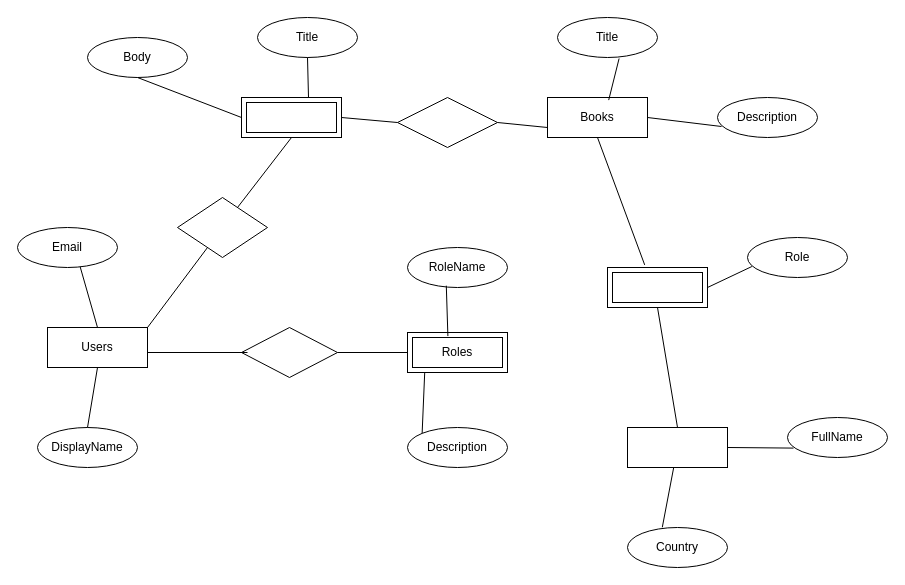
This 905x585 diagram has some shape labels left out. The centre of each missing label's shape, as x and y in pixels:
"Authors" goes at (x=677, y=447).
"BookAuthors" goes at (x=657, y=287).
"have" goes at (x=289, y=352).
"Reviews" goes at (x=291, y=117).
"write" goes at (x=222, y=227).
"write for" goes at (x=447, y=122).
